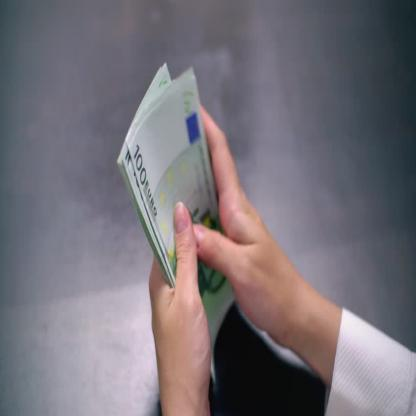billete: (115, 59, 238, 385)
